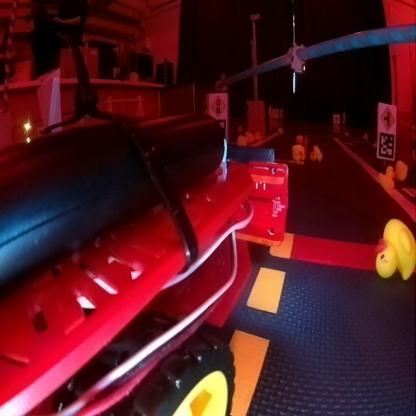Duckie: (374, 218, 414, 278), (379, 166, 394, 188), (394, 160, 406, 178), (310, 145, 322, 161), (292, 144, 304, 160)
Duckiebot: (0, 109, 288, 414)
Intersection sign: (379, 104, 395, 129)
QR code: (378, 131, 394, 157)
Signal sign: (211, 94, 225, 116)
